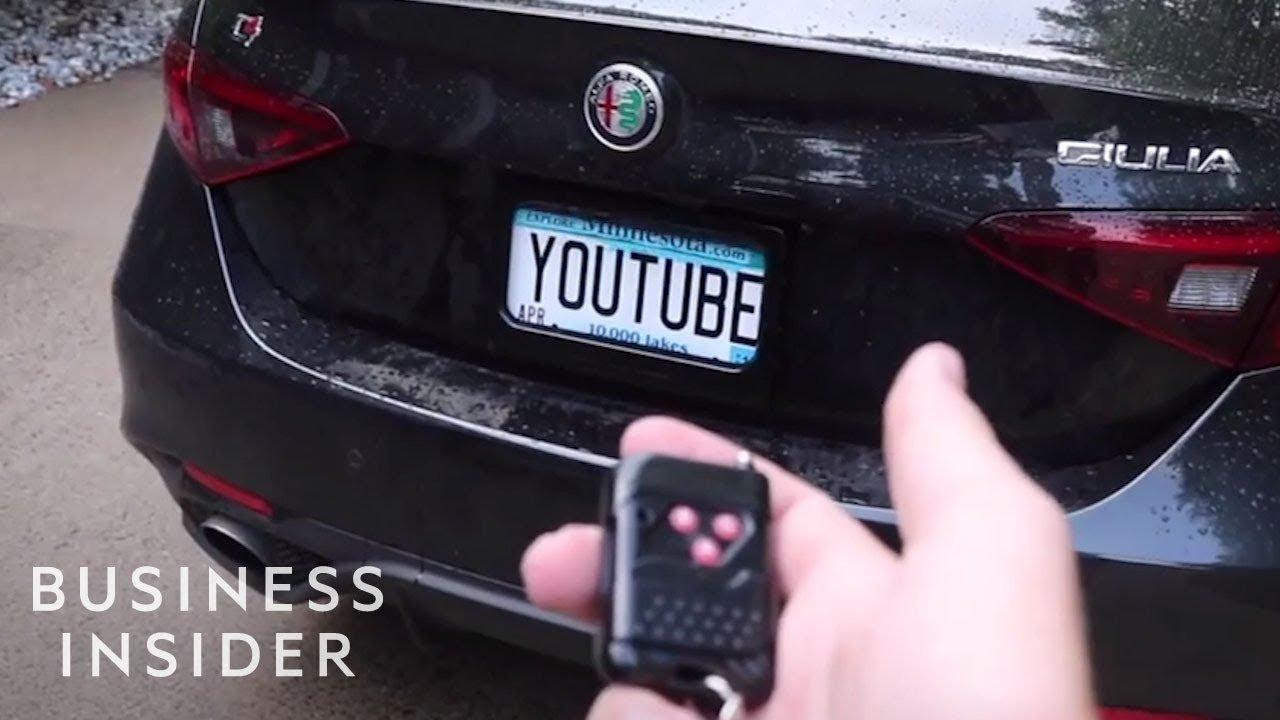Liscence Plate: (514, 208, 759, 362)
